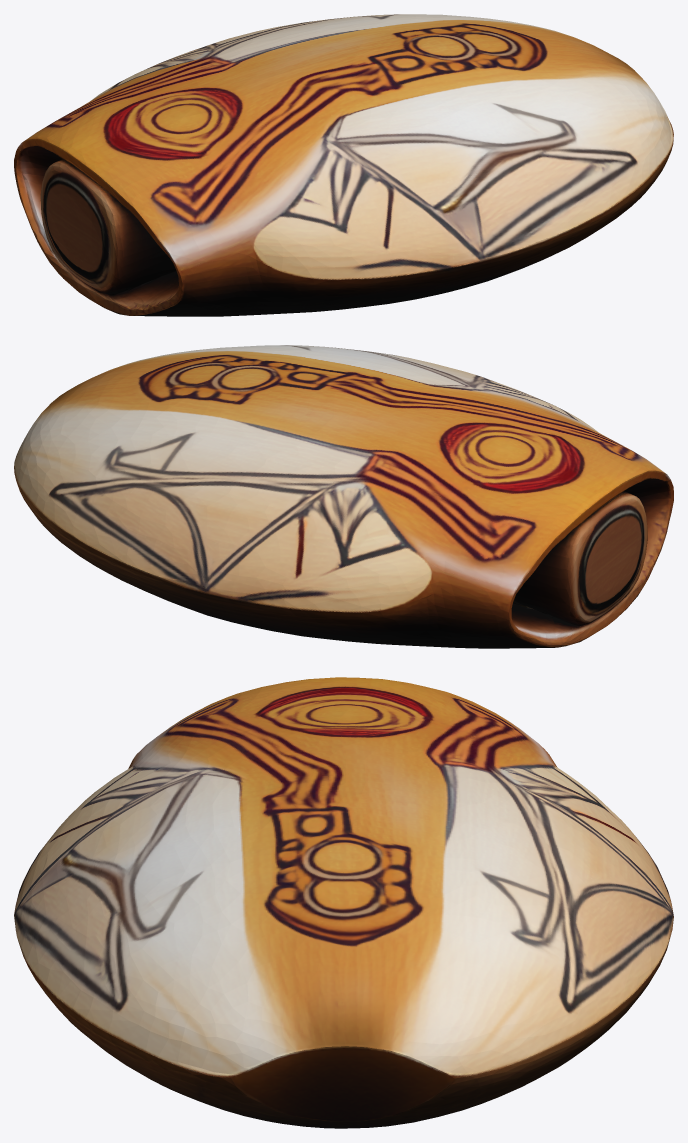
The model's file is wooden-rolling-stamp-futuristic.jpeg.glb.
3 renders of one model, top to bottom at view 1: azimuth 30°, elevation 25°; view 2: azimuth 150°, elevation 25°; view 3: azimuth 270°, elevation 25°, orthographic. The views are drawn at different scales.
Visible parts, largest first — view 1: world; view 2: world; view 3: world.
Part boxes in pixels (left/top/right/bottom): world: left=14, top=14, right=673, bottom=316; world: left=14, top=345, right=673, bottom=648; world: left=14, top=677, right=673, bottom=1128.
Bounding box in the file's own units: 0.9986 × 0.3456 × 0.8432.
1 material, 1 textured.
